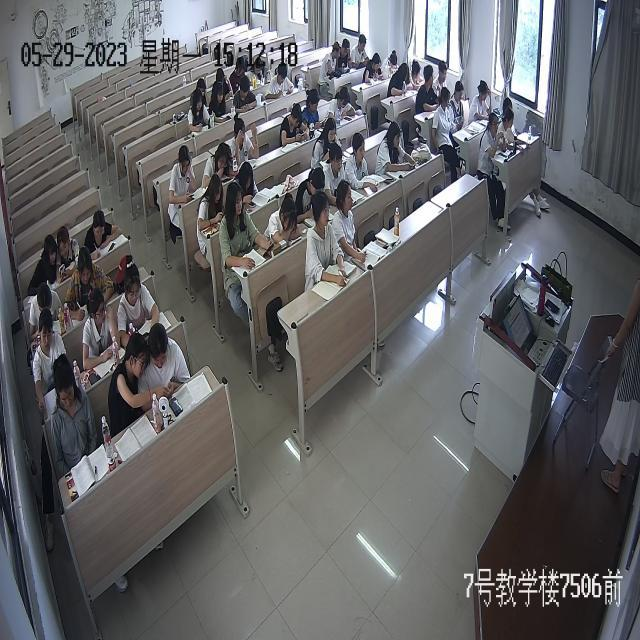distracted: (44, 359, 99, 468), (108, 332, 166, 425), (82, 289, 123, 368), (24, 236, 61, 296), (418, 64, 444, 118), (321, 38, 344, 83), (336, 37, 356, 72)
focused: (307, 192, 349, 294), (112, 261, 162, 340), (34, 311, 76, 397), (331, 179, 365, 269), (67, 250, 113, 316), (195, 175, 232, 237), (347, 132, 378, 197), (86, 212, 124, 262), (311, 115, 341, 170), (30, 283, 64, 330), (230, 118, 263, 166), (296, 166, 326, 218), (321, 146, 349, 199), (263, 62, 300, 102), (231, 73, 262, 120), (480, 113, 509, 161), (433, 88, 456, 146), (447, 80, 468, 132), (208, 80, 233, 123), (388, 62, 416, 96), (354, 30, 376, 73), (468, 82, 493, 119), (362, 52, 386, 83), (434, 60, 452, 101), (500, 108, 519, 146), (377, 49, 401, 78)
sleep: (267, 194, 303, 247)
using_phone: (218, 186, 275, 266), (141, 326, 191, 404), (376, 120, 418, 177), (167, 147, 201, 209), (185, 86, 218, 136), (54, 230, 84, 283), (323, 84, 359, 128), (279, 101, 309, 147), (204, 141, 236, 184), (296, 92, 329, 131), (234, 164, 260, 212), (405, 57, 431, 91)
